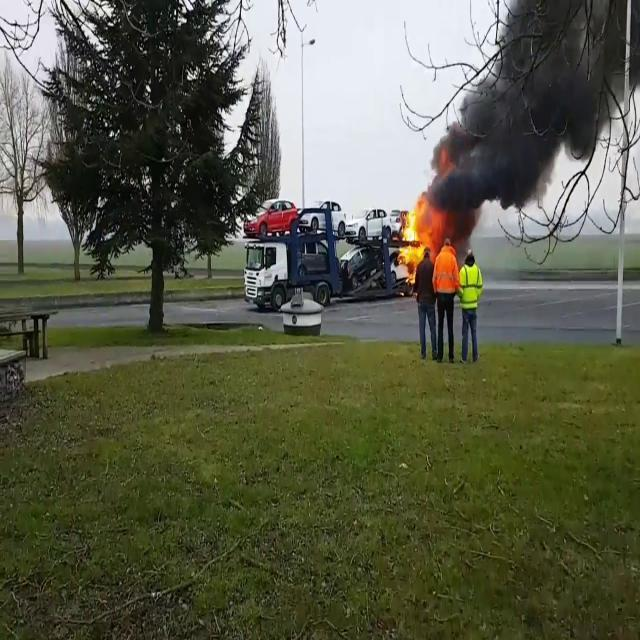Fire: (396, 196, 444, 280)
Smoke: (424, 1, 596, 222)
